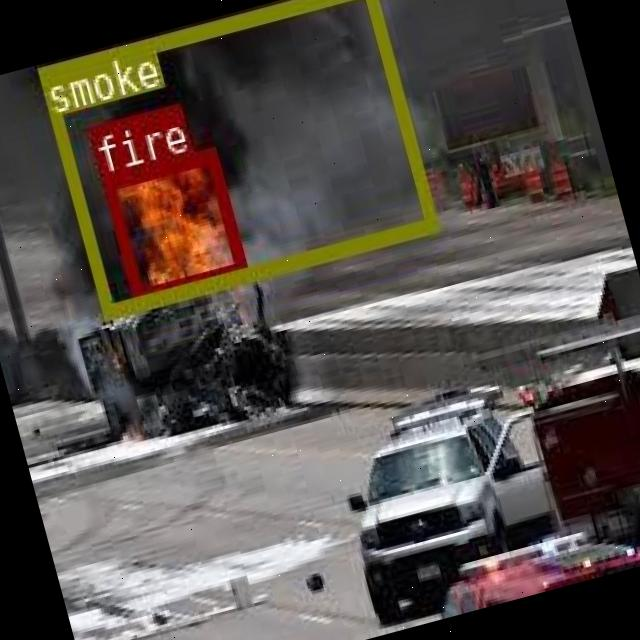fire: (100, 146, 246, 302)
smoke: (36, 0, 435, 316)
